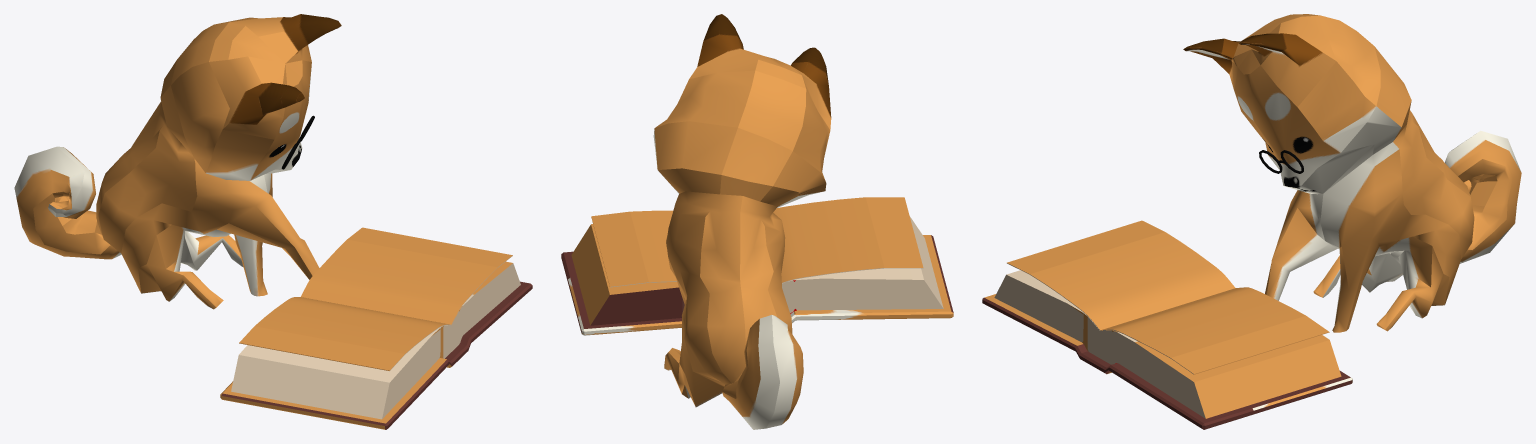
File: book_frame38.obj
3 renders of one model, left to right at view 1: azimuth 30°, elevation 25°; view 2: azimuth 150°, elevation 25°; view 3: azimuth 270°, elevation 25°, orthographic. The views are drawn at different scales.
Visible parts, largest first — view 1: StidyGlasses_Computer_Sitting:Sitting:newRigging:BodzL1, polySurface1; view 2: StidyGlasses_Computer_Sitting:Sitting:newRigging:BodzL1, polySurface1; view 3: StidyGlasses_Computer_Sitting:Sitting:newRigging:BodzL1, polySurface1.
Part boxes in pixels (x1,y1,x2,y2): StidyGlasses_Computer_Sitting:Sitting:newRigging:BodzL1: (14, 14, 341, 309); polySurface1: (220, 227, 532, 429); StidyGlasses_Computer_Sitting:Sitting:newRigging:BodzL1: (653, 14, 831, 429); polySurface1: (561, 197, 953, 335); StidyGlasses_Computer_Sitting:Sitting:newRigging:BodzL1: (1183, 14, 1521, 332); polySurface1: (982, 220, 1352, 429).
Size of the model in its own units: 9.1 by 6.98 by 11.14.
4 materials, 4 textured.
